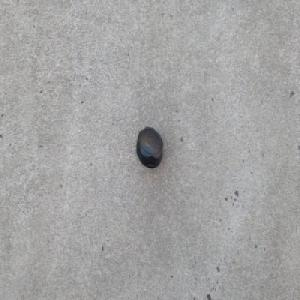FuelCap: (134, 126, 163, 171)
